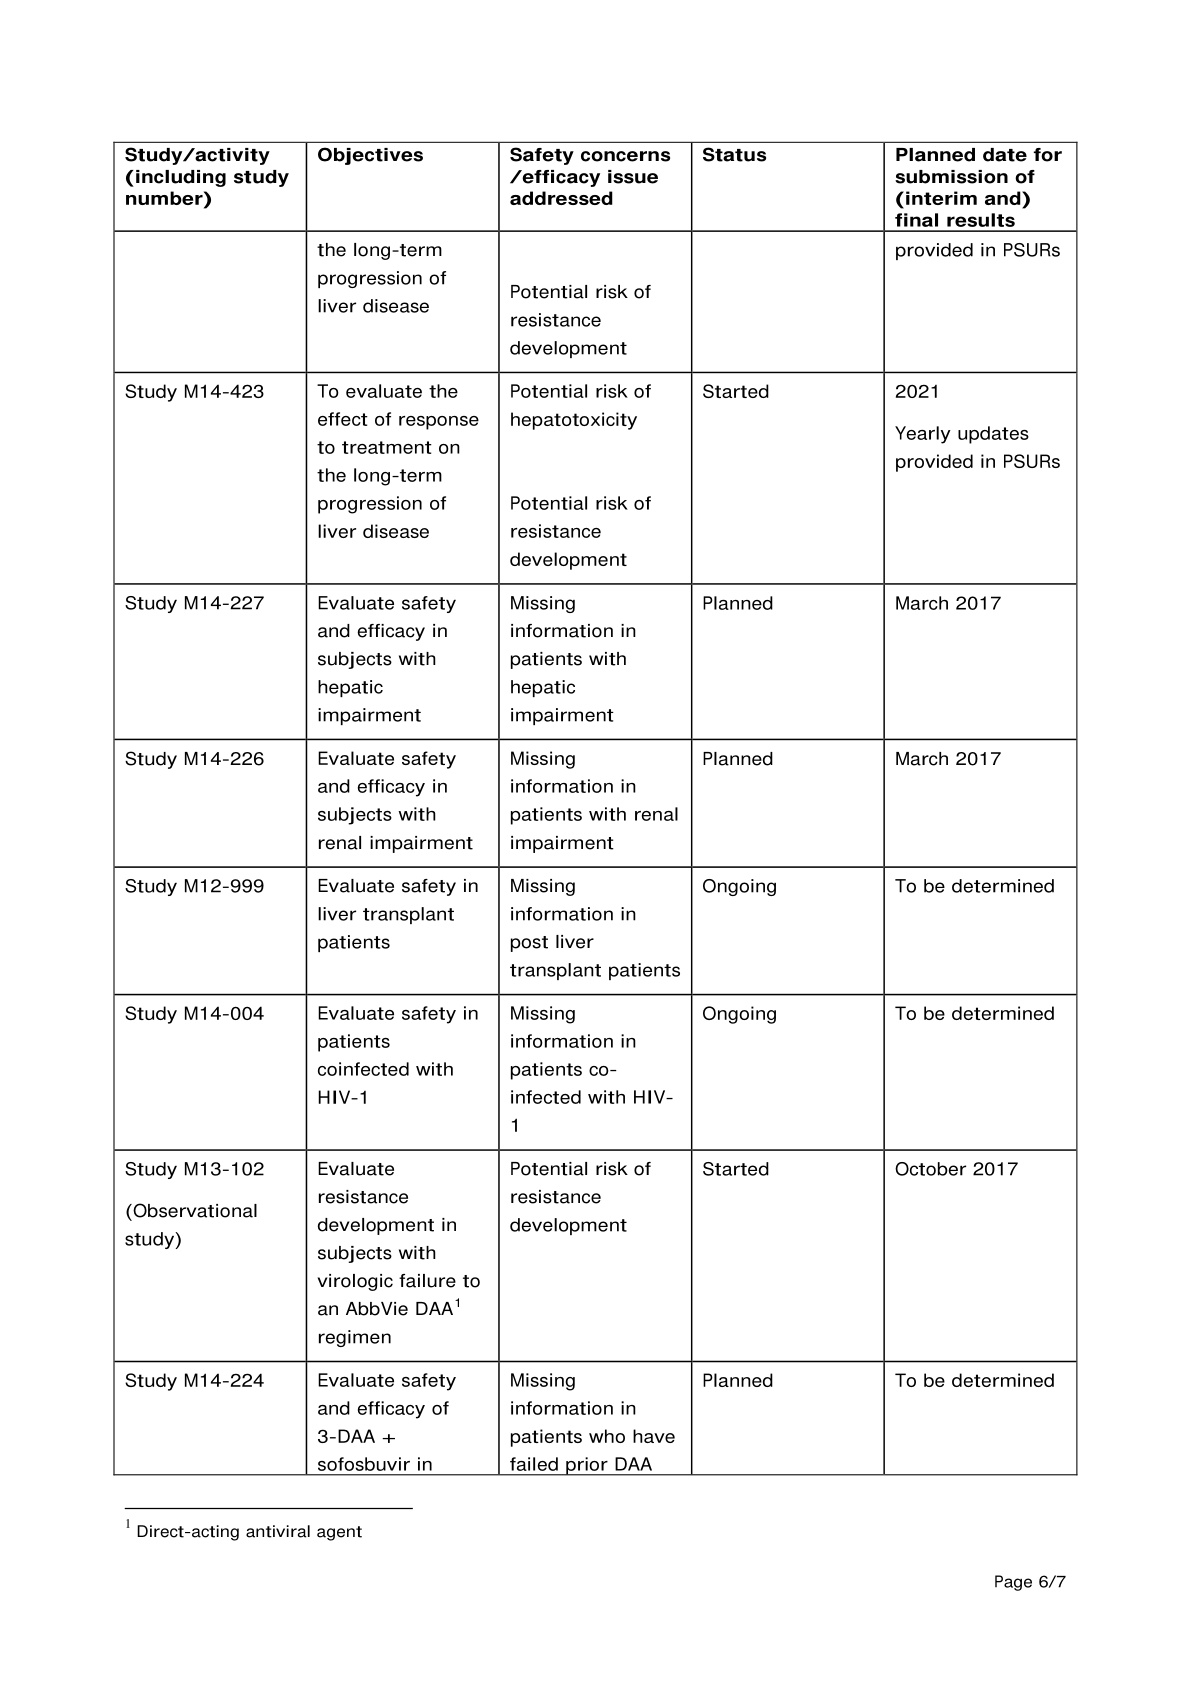full_lined: (111, 140, 1079, 1477)
